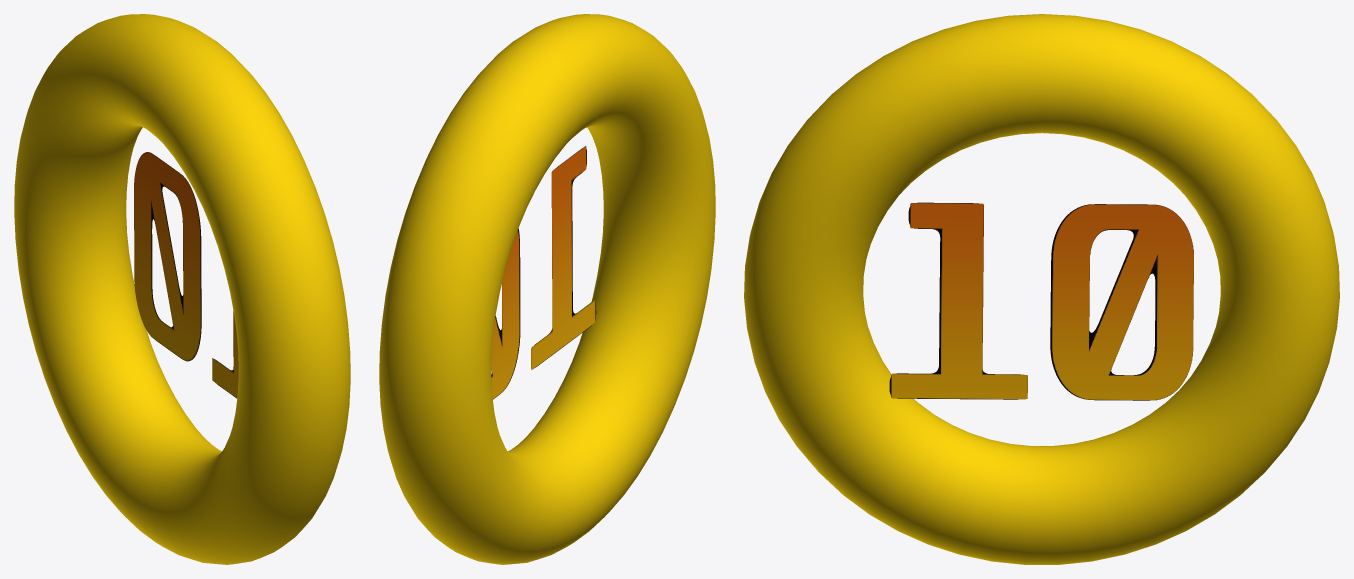
The model's file is SuperRing.fbx.
3 views of the same model, side by side, from view 1: azimuth 30°, elevation 25°; view 2: azimuth 150°, elevation 25°; view 3: azimuth 270°, elevation 25° (orthographic). The views are drawn at different scales.
Parts seen in each view (by area): view 1: Ring_LOD0, SuperRingCount; view 2: Ring_LOD0, SuperRingCount; view 3: Ring_LOD0, SuperRingCount.
Boxes of the visible parts, bbox=[...] form: Ring_LOD0: bbox=[14, 14, 350, 564]; SuperRingCount: bbox=[134, 152, 238, 398]; Ring_LOD0: bbox=[379, 14, 715, 564]; SuperRingCount: bbox=[491, 146, 596, 399]; Ring_LOD0: bbox=[744, 14, 1339, 564]; SuperRingCount: bbox=[889, 202, 1193, 400].
Size of what is drawn, in the model's own units: 0.1206 by 0.6024 by 0.6026.
